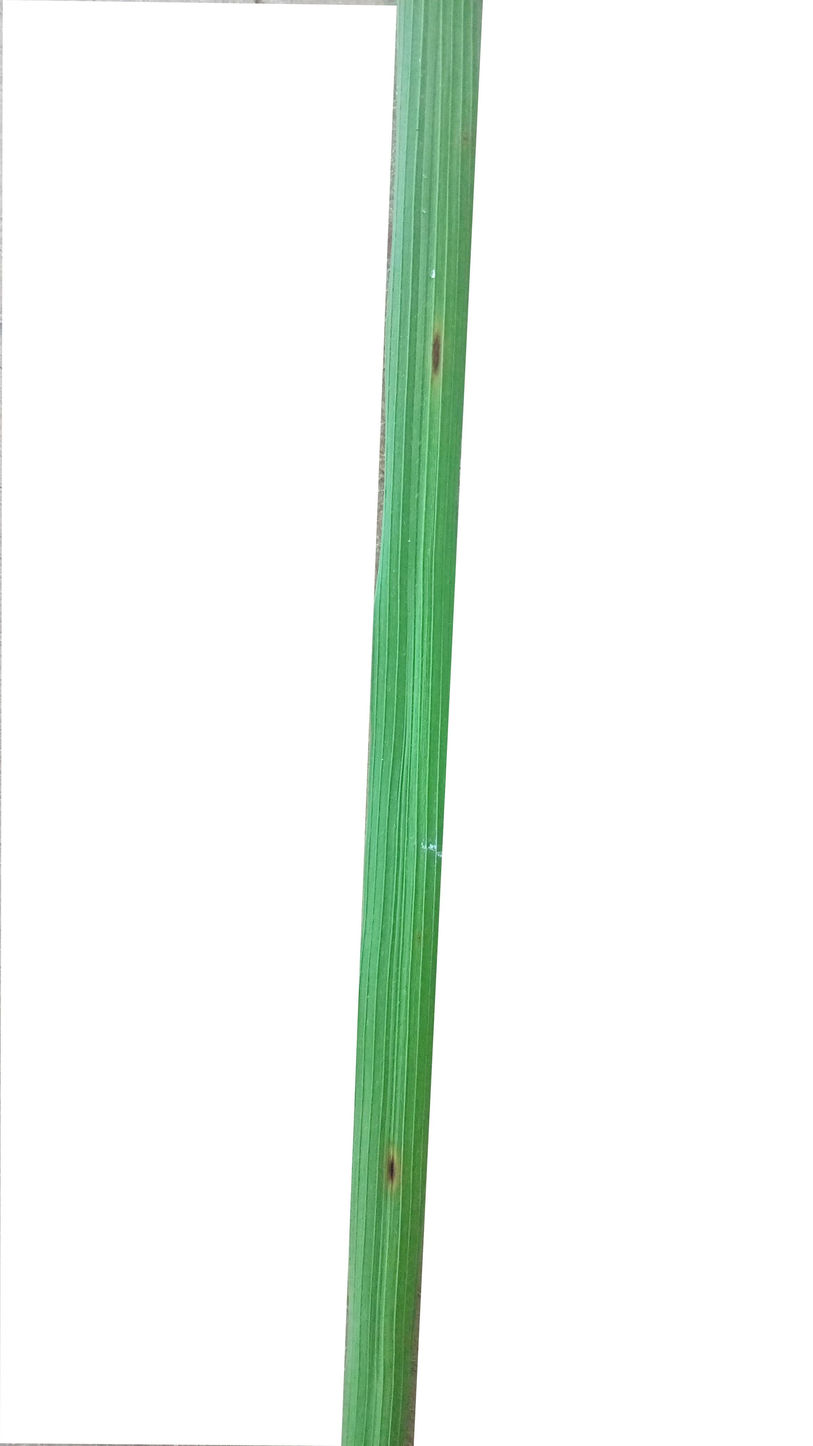Brown spot: (378, 1139, 406, 1209), (427, 321, 447, 393)
